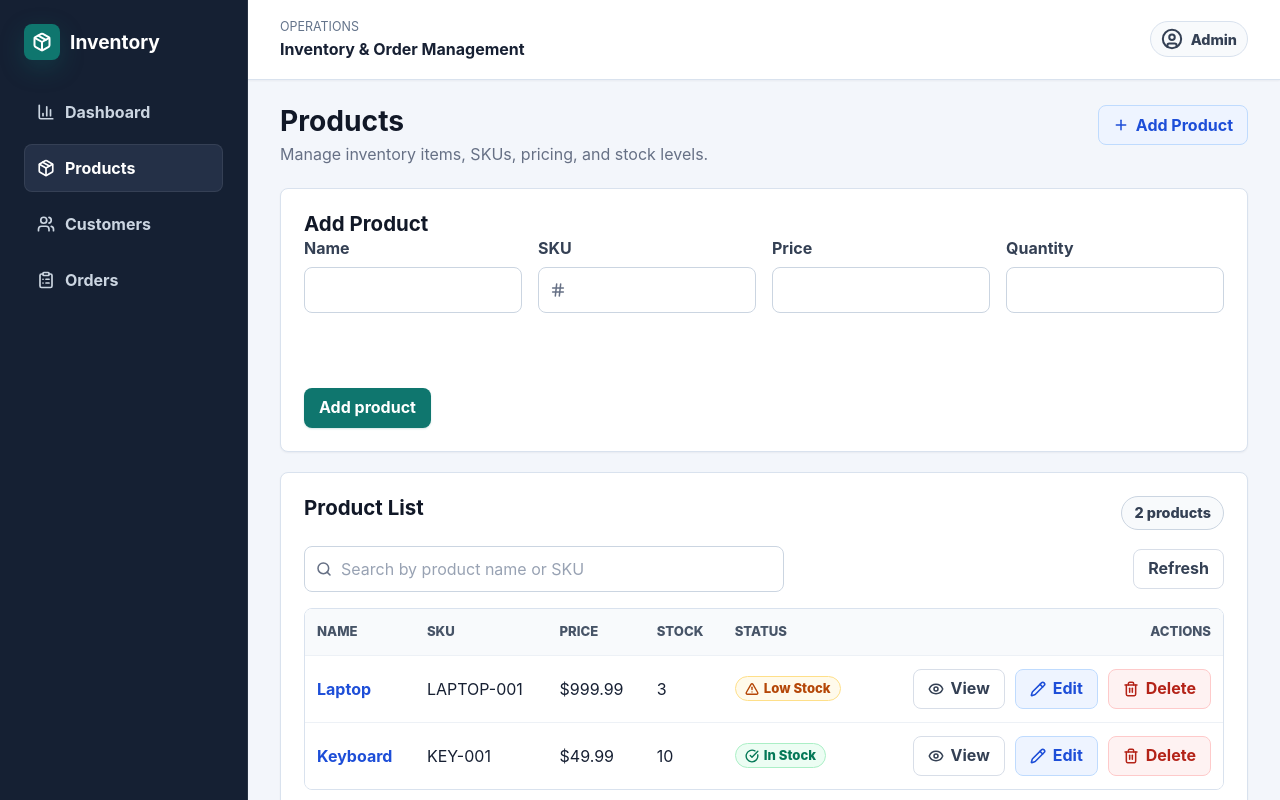
it: frontend flows › SKU suggestions render as clickable buttons and fill SKU input
The image size is (1280, 800).
Step 1. Type "Wireless Mouse" into the field labelled "Name" → point(413, 290), box [304,267,522,313]
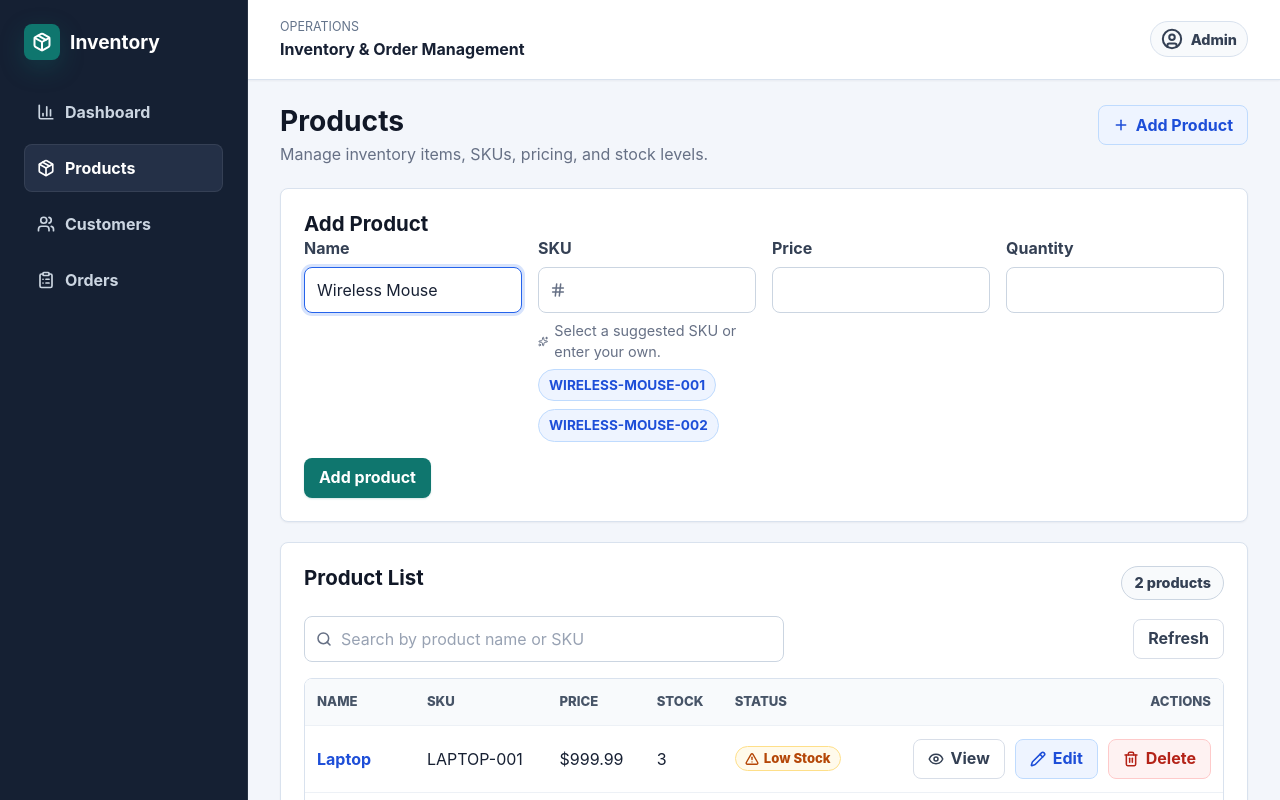
Step 2. Click the button "WIRELESS-MOUSE-001" → point(627, 385), box [538,369,716,401]
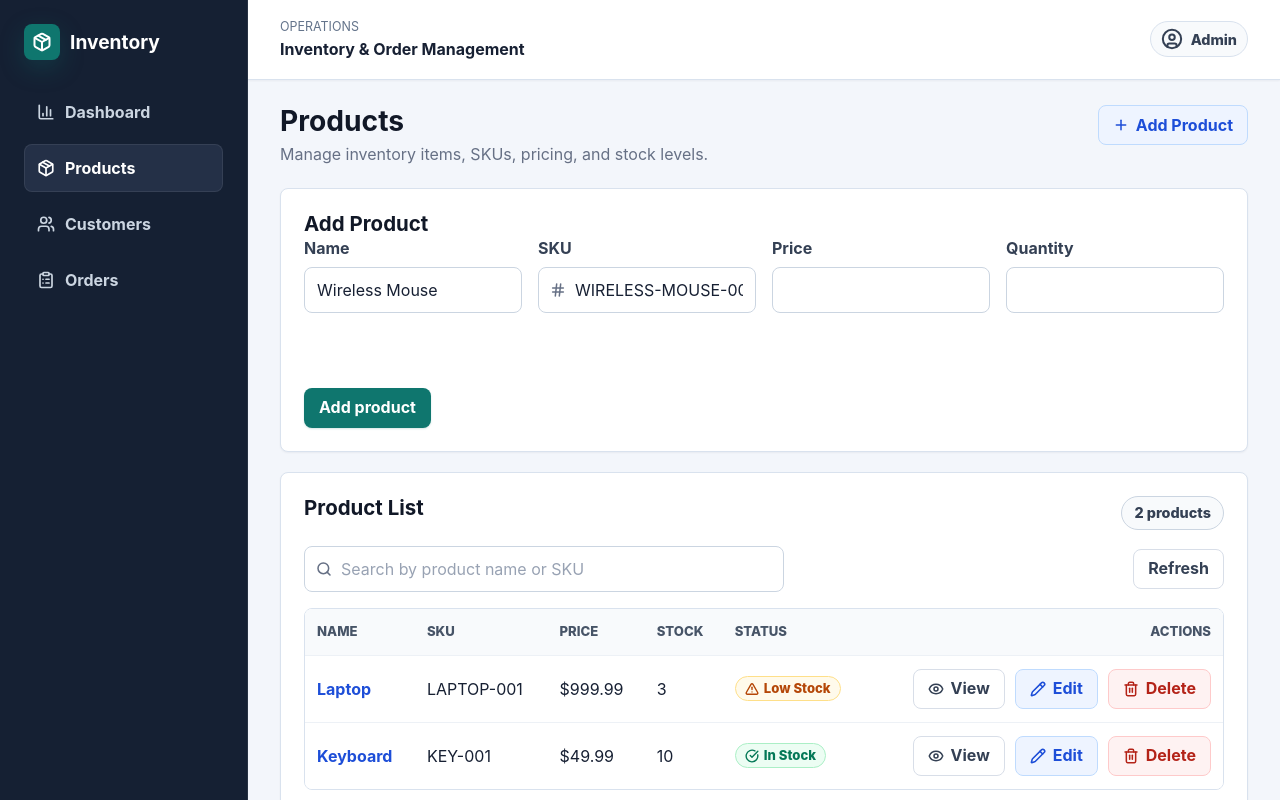
Expected: the field labelled "SKU" holds "WIRELESS-MOUSE-001", [538,267,756,313]
